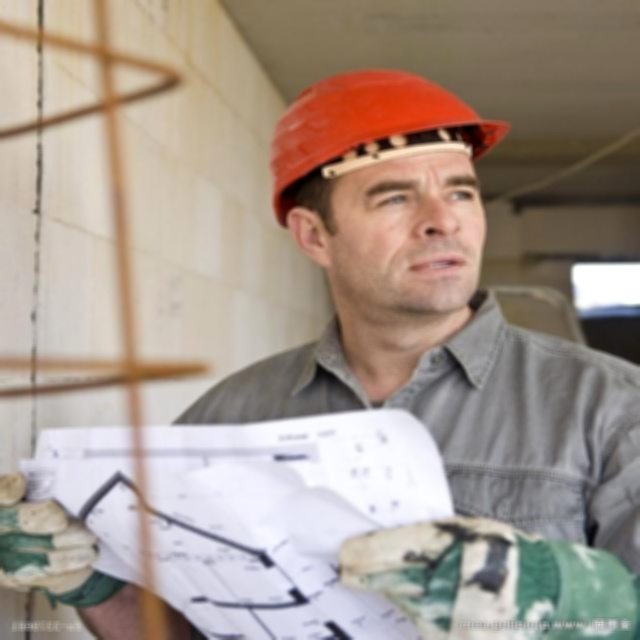Con_Casco: (274, 67, 503, 330)
